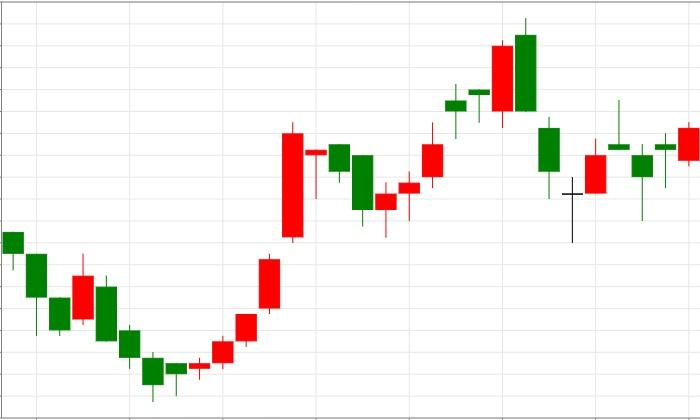three_white_soldiers_rise: (71, 253, 280, 402), (282, 121, 443, 243)
